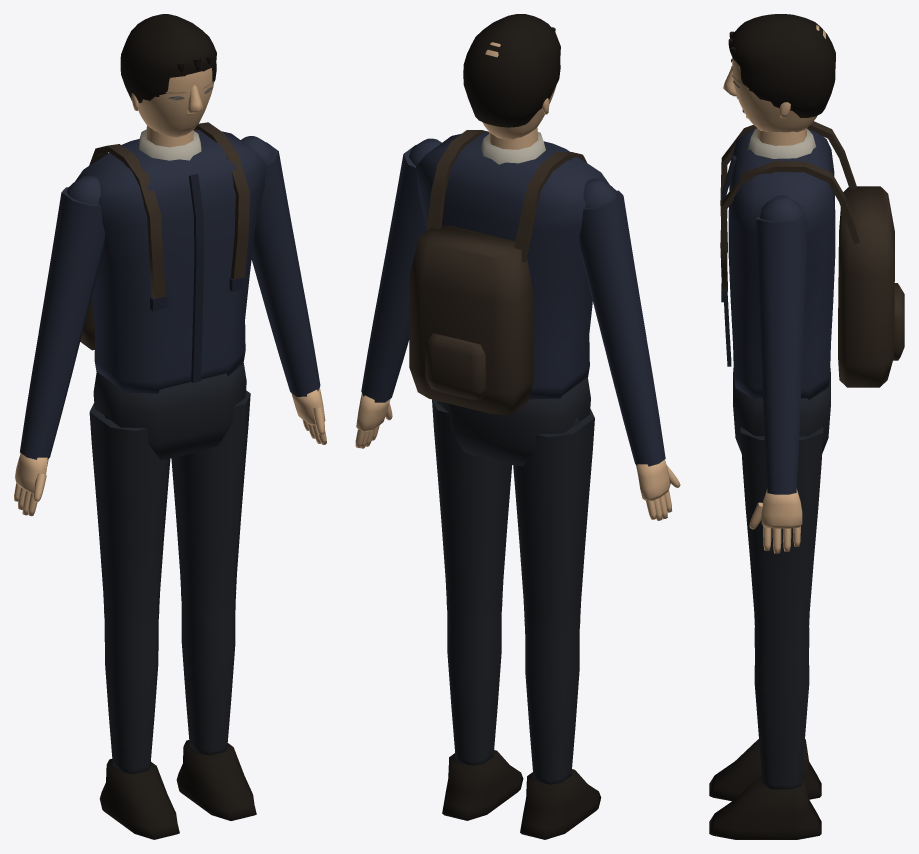
The model's file is classmate_v01.glb.
The picture shows the model from 3 angles, left to right: view 1: azimuth 30°, elevation 25°; view 2: azimuth 150°, elevation 25°; view 3: azimuth 270°, elevation 25°; orthographic projection.
Parts seen in each view (by area): view 1: Classmate_Body, Classmate_Leg_L, Classmate_Leg_R, Classmate_Head, Classmate_Shin_R, Classmate_Shin_L, Classmate_Arm_L, Classmate_Arm_R, Classmate_Forearm_L, Classmate_Foot_L, Classmate_Foot_R, Classmate_Forearm_R (+2 smaller); view 2: Classmate_Body, Classmate_Leg_L, Classmate_Leg_R, Classmate_Head, Classmate_Shin_R, Classmate_Shin_L, Classmate_Arm_L, Classmate_Forearm_L, Classmate_Forearm_R, Classmate_Foot_R, Classmate_Foot_L, Classmate_Arm_R (+2 smaller); view 3: Classmate_Body, Classmate_Head, Classmate_Leg_R, Classmate_Shin_R, Classmate_Arm_R, Classmate_Foot_R, Classmate_Forearm_R, Classmate_Hand_R, Classmate_Foot_L.
Part boxes in pixels (x1,y1,x2,y2): Classmate_Body: (67, 122, 273, 459); Classmate_Leg_L: (89, 403, 170, 623); Classmate_Leg_R: (171, 390, 250, 604); Classmate_Head: (120, 14, 216, 137); Classmate_Shin_R: (181, 592, 236, 755); Classmate_Shin_L: (104, 611, 159, 773); Classmate_Arm_L: (38, 187, 105, 343); Classmate_Arm_R: (251, 142, 301, 294); Classmate_Forearm_L: (20, 334, 80, 459); Classmate_Foot_L: (99, 759, 179, 839); Classmate_Foot_R: (176, 740, 256, 820); Classmate_Forearm_R: (260, 279, 320, 396); Classmate_Body: (409, 127, 617, 466); Classmate_Leg_L: (513, 409, 594, 631); Classmate_Leg_R: (432, 399, 512, 612); Classmate_Head: (463, 14, 560, 139); Classmate_Shin_R: (446, 600, 502, 765); Classmate_Shin_L: (524, 620, 580, 784); Classmate_Arm_L: (579, 190, 646, 349); Classmate_Forearm_L: (604, 338, 665, 466); Classmate_Forearm_R: (361, 283, 409, 402); Classmate_Foot_R: (442, 750, 523, 820); Classmate_Foot_L: (520, 769, 601, 839); Classmate_Arm_R: (380, 145, 426, 298); Classmate_Body: (720, 121, 904, 452); Classmate_Head: (723, 14, 835, 132); Classmate_Leg_R: (740, 427, 823, 636); Classmate_Shin_R: (754, 631, 809, 789); Classmate_Arm_R: (756, 217, 807, 369); Classmate_Foot_R: (709, 776, 821, 839); Classmate_Forearm_R: (762, 368, 801, 494); Classmate_Hand_R: (749, 488, 802, 553); Classmate_Foot_L: (709, 739, 821, 801).
Size of the model in its own units: 0.7015 by 1.75 by 0.3906.
